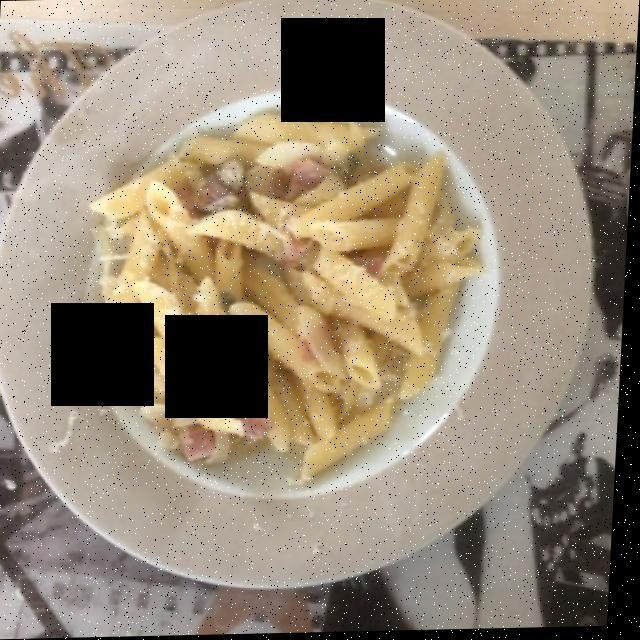pasta: (95, 109, 482, 469)
sauce: (150, 147, 459, 480)
